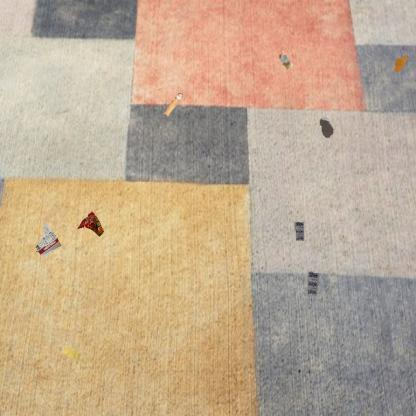dirty: (34, 222, 63, 260), (75, 208, 106, 239), (162, 92, 183, 116), (60, 344, 82, 361), (306, 272, 319, 296), (280, 50, 293, 70), (295, 221, 304, 241)
liquid: (319, 116, 334, 138), (393, 52, 407, 73)
